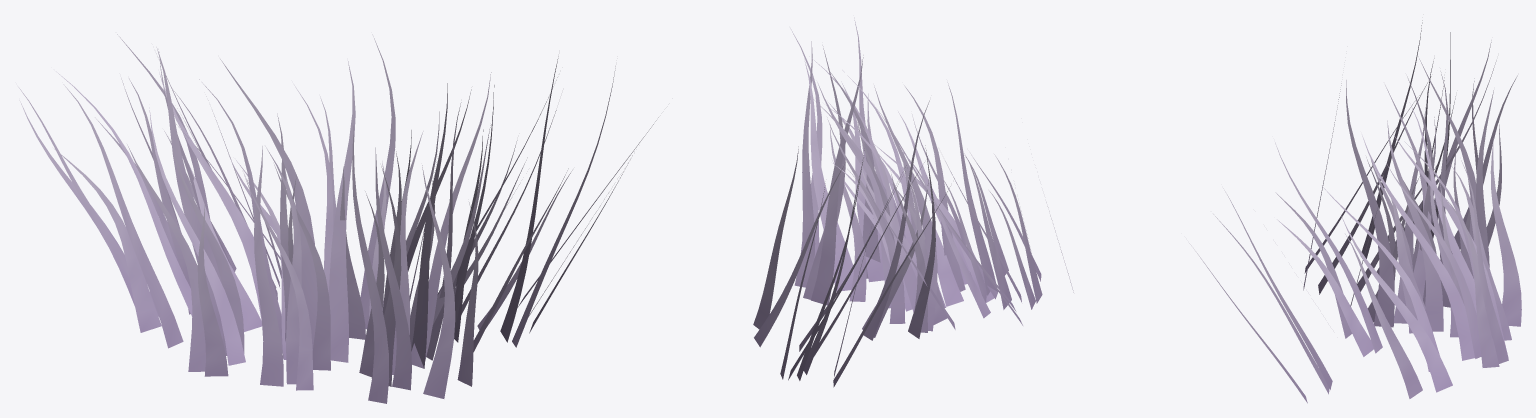
File: mesh-plant-020-silverspray-tuft_LOD0.glb
The picture shows the model from 3 angles, left to right: view 1: azimuth 30°, elevation 25°; view 2: azimuth 150°, elevation 25°; view 3: azimuth 270°, elevation 25°; orthographic projection. The views are drawn at different scales.
Parts seen in each view (by area): view 1: geometry_0; view 2: geometry_0; view 3: geometry_0.
Boxes of the visible parts, x1,y1,x2,y2 form: geometry_0: (18, 34, 658, 403); geometry_0: (753, 17, 1073, 387); geometry_0: (1189, 20, 1521, 403).
Bounding box in the file's own units: 1.54 × 0.7818 × 1.2.
